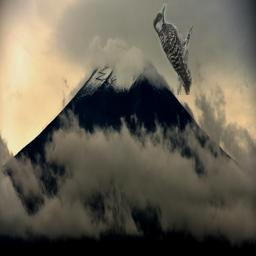Woodpecker: (153, 1, 193, 95)
